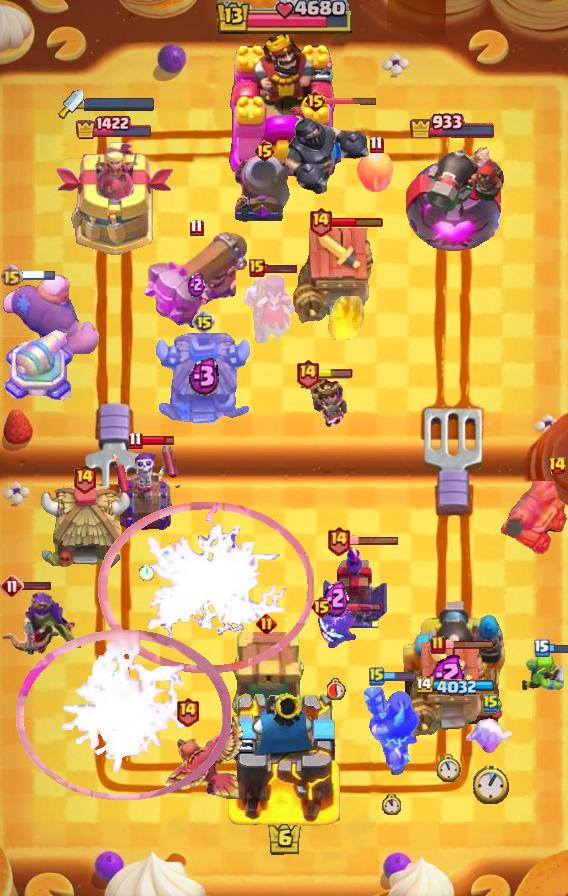balloon: (0, 273, 102, 373)
bar: (54, 142, 173, 256)
barbarian-evolution: (98, 502, 314, 674), (17, 629, 232, 801)
barbarian-hut: (0, 589, 86, 667)
bomb: (227, 631, 305, 719)
bomber-evolution: (297, 373, 352, 429)
clock: (214, 0, 354, 36)
electro-spirit: (429, 653, 466, 694), (187, 356, 221, 396), (323, 579, 349, 618), (187, 271, 204, 297)
elixir: (473, 764, 509, 804), (435, 754, 460, 783), (326, 678, 345, 700), (383, 793, 402, 814), (138, 564, 153, 581)
emote: (332, 216, 385, 228), (443, 638, 495, 650), (348, 535, 400, 546), (330, 602, 382, 613), (324, 95, 378, 105), (19, 270, 56, 283), (140, 433, 176, 446), (382, 670, 418, 682), (263, 262, 298, 273), (16, 581, 51, 592), (317, 369, 353, 379), (548, 642, 568, 654)
furnace: (142, 229, 250, 329)
goblin-cage: (232, 155, 296, 225)
golden-knight: (163, 712, 245, 800)
hog: (356, 150, 396, 194)
ice-spirit-evolution-symbol: (322, 544, 390, 630)
inferno-dragon: (362, 681, 420, 775)
king-tower: (227, 29, 341, 181), (226, 688, 342, 826)
king-tower-bar: (84, 97, 156, 111)
mirror: (466, 717, 516, 755)
prince: (153, 333, 255, 429), (37, 483, 131, 573)
rascal-boy: (240, 273, 298, 345)
royal-giant-evolution: (500, 481, 568, 555)
royal-guardian: (283, 103, 375, 199)
royal-recruit: (0, 326, 76, 408)
selected: (409, 110, 497, 138), (74, 115, 154, 140), (414, 675, 495, 697)
skeleton-king-bar: (112, 446, 180, 532)
sparky: (293, 227, 379, 325), (405, 641, 491, 739)
spear-goblin: (315, 606, 357, 652)
text: (307, 207, 332, 238), (295, 359, 320, 390), (71, 462, 96, 493), (325, 525, 350, 556), (176, 697, 201, 728), (192, 310, 216, 334), (0, 574, 24, 598), (304, 89, 327, 113), (253, 139, 276, 163), (310, 595, 333, 619), (1, 265, 24, 288), (256, 614, 277, 635), (548, 456, 567, 476), (430, 635, 446, 655), (369, 666, 385, 686), (483, 693, 499, 713), (249, 259, 265, 277), (534, 639, 550, 657), (188, 218, 203, 237), (129, 430, 144, 449), (369, 134, 383, 153)
tower-bar: (397, 595, 509, 731), (402, 136, 504, 256)
valkyrie: (327, 296, 367, 344)
zap: (520, 648, 568, 693)
